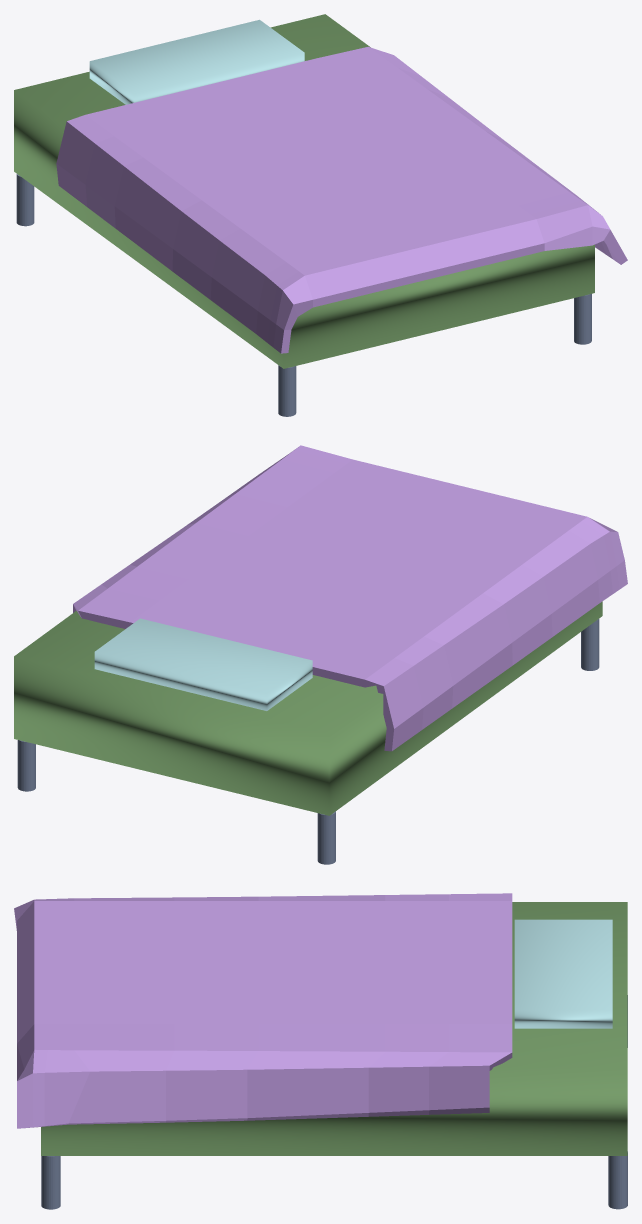
The model's file is bed.glb.
3 views of the same model, one above another, from view 1: azimuth 30°, elevation 25°; view 2: azimuth 150°, elevation 25°; view 3: azimuth 270°, elevation 25° (orthographic). The views are drawn at different scales.
Parts seen in each view (by area): view 1: Cube.002, Cube, Cube.001, Cylinder.001, Cylinder, Cylinder.003; view 2: Cube.002, Cube, Cube.001, Cylinder.003, Cylinder.002, Cylinder.001; view 3: Cube.002, Cube, Cube.001, Cylinder, Cylinder.002.
Boxes of the visible parts, bbox=[...] form: Cube.002: bbox=[56, 46, 627, 353]; Cube: bbox=[14, 14, 594, 368]; Cube.001: bbox=[89, 19, 304, 104]; Cylinder.001: bbox=[278, 365, 296, 416]; Cylinder: bbox=[574, 294, 591, 344]; Cylinder.003: bbox=[16, 174, 34, 226]; Cube.002: bbox=[73, 445, 627, 751]; Cube: bbox=[14, 601, 602, 815]; Cube.001: bbox=[94, 618, 312, 710]; Cylinder.003: bbox=[317, 811, 335, 864]; Cylinder.002: bbox=[17, 740, 35, 791]; Cylinder.001: bbox=[581, 619, 599, 670]; Cube.002: bbox=[14, 893, 512, 1128]; Cube: bbox=[41, 902, 627, 1155]; Cube.001: bbox=[514, 919, 612, 1028]; Cylinder: bbox=[41, 1156, 60, 1209]; Cylinder.002: bbox=[608, 1151, 627, 1209].
Size of the model in its own units: 8.91 by 3.63 by 12.56.
